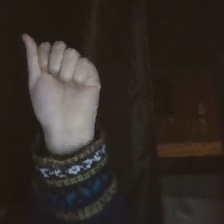A: (17, 26, 112, 137)
